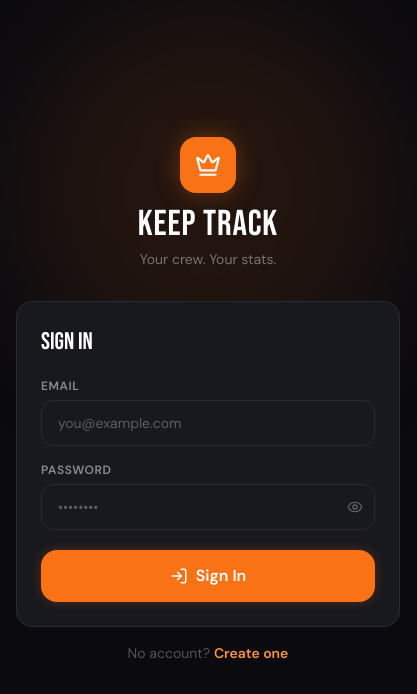
Test: LoginPage › shows error on failed login
Type "a@a.com" into the field with placeholder "you@example.com" at [208, 423], box [41, 400, 375, 446]
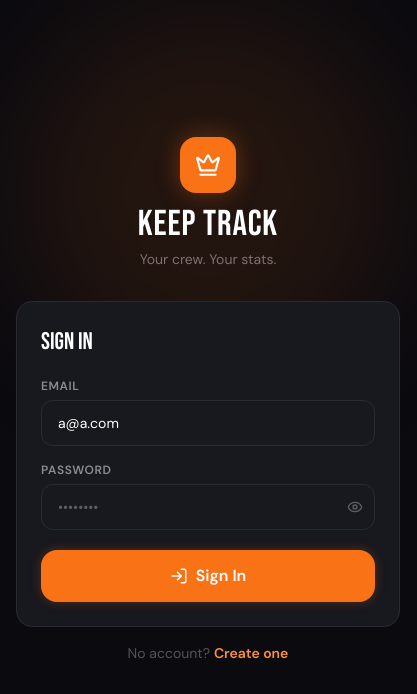
Type "password1" into the password field with placeholder "••••••••" at [208, 507], box [41, 484, 375, 530]
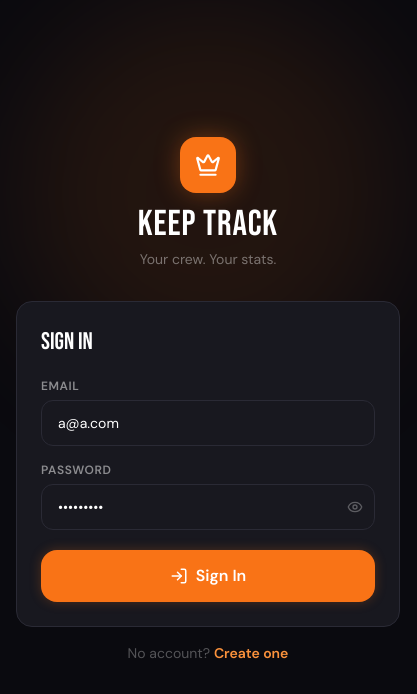
Click the button "Sign In" at [208, 576], box [41, 550, 375, 602]
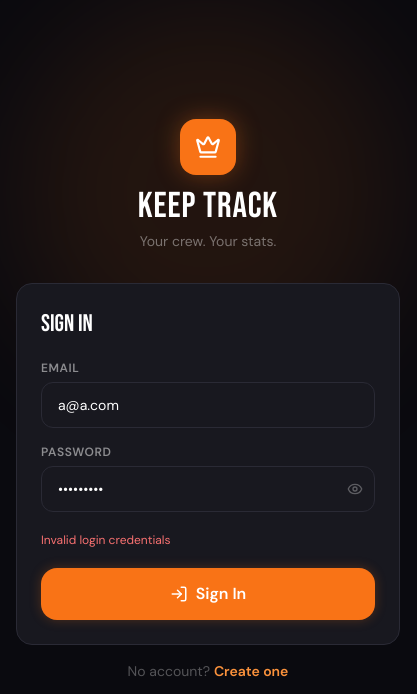
Expected: the text "Invalid login credentials" is shown, [41, 532, 170, 548]
